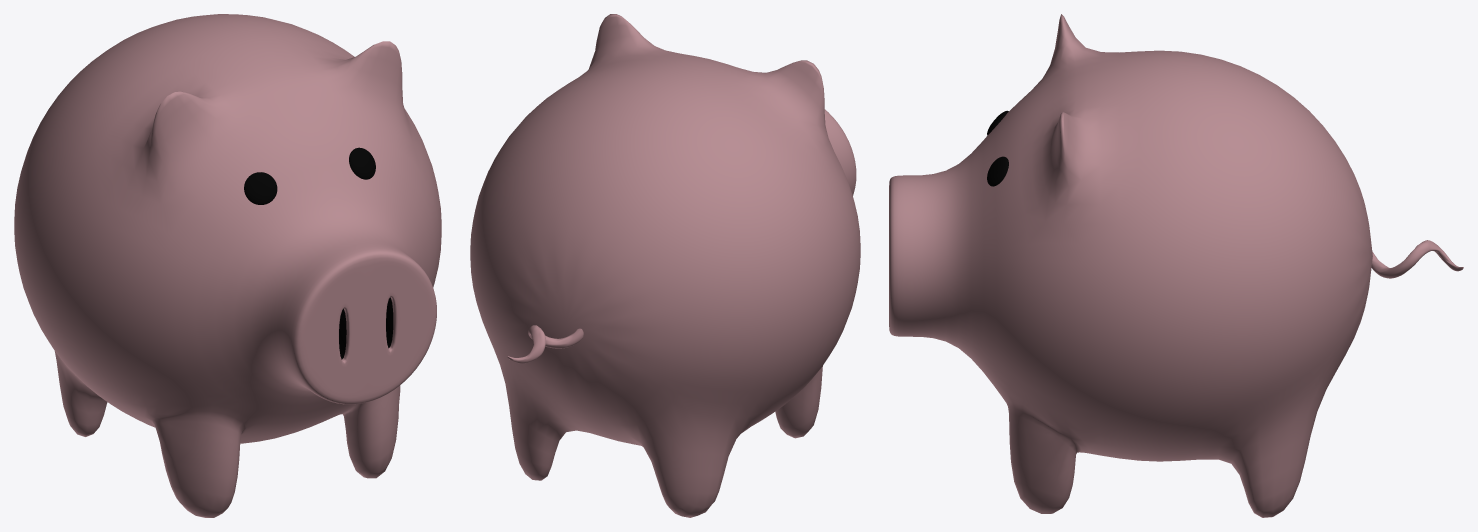
File: Pig.glb
The picture shows the model from 3 angles, left to right: view 1: azimuth 30°, elevation 25°; view 2: azimuth 150°, elevation 25°; view 3: azimuth 270°, elevation 25°; orthographic projection. The views are drawn at different scales.
Visible parts, largest first — view 1: PigTail; view 2: PigTail; view 3: PigTail.
Boxes of the visible parts, x1,y1,x2,y2 form: PigTail: [14, 14, 441, 517]; PigTail: [470, 14, 860, 517]; PigTail: [889, 14, 1463, 517].
Size of the model in its own units: 1.9 by 2.1 by 2.65.
